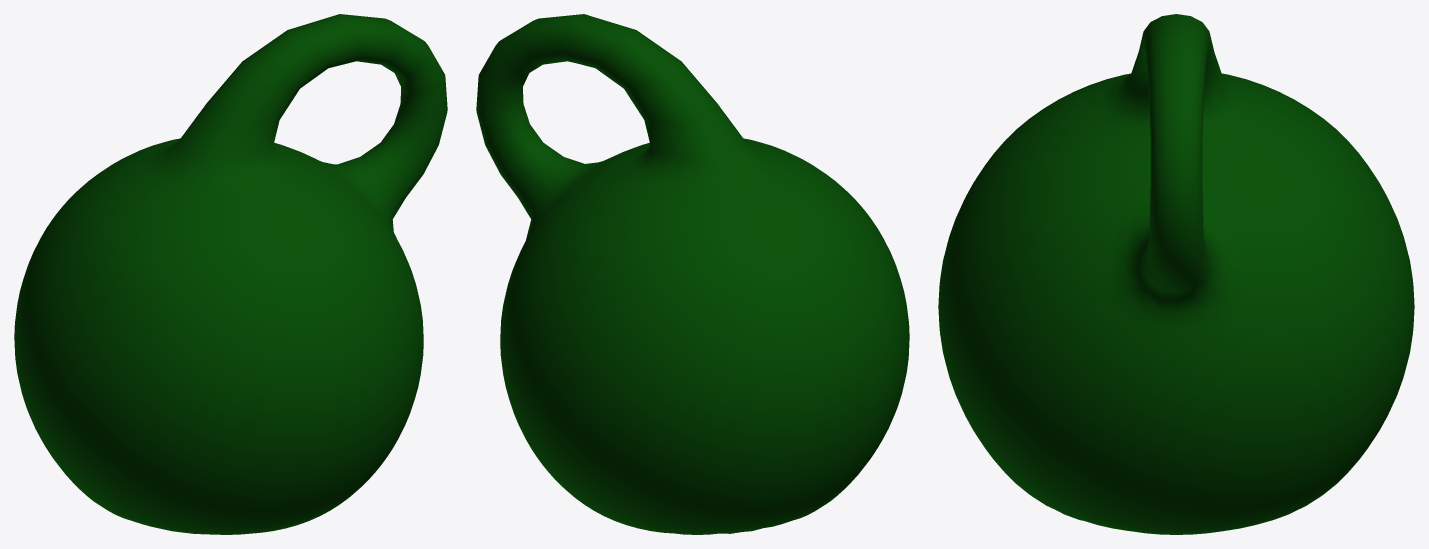
The model's file is Bottle.glb.
3 renders of one model, left to right at view 1: azimuth 30°, elevation 25°; view 2: azimuth 150°, elevation 25°; view 3: azimuth 270°, elevation 25°, orthographic. The views are drawn at different scales.
Parts seen in each view (by area): view 1: kline bottle.001; view 2: kline bottle.001; view 3: kline bottle.001.
Boxes of the visible parts, x1,y1,x2,y2 form: kline bottle.001: [14, 14, 447, 534]; kline bottle.001: [476, 14, 909, 534]; kline bottle.001: [938, 14, 1414, 534].
Size of the model in its own units: 25.93 by 26.88 by 22.82.
Materials: 1 (1 with a texture image).
